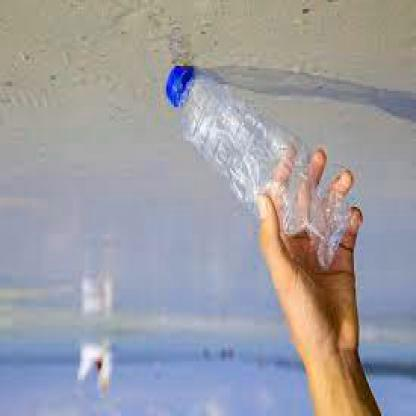Plastic: (163, 60, 359, 276)
